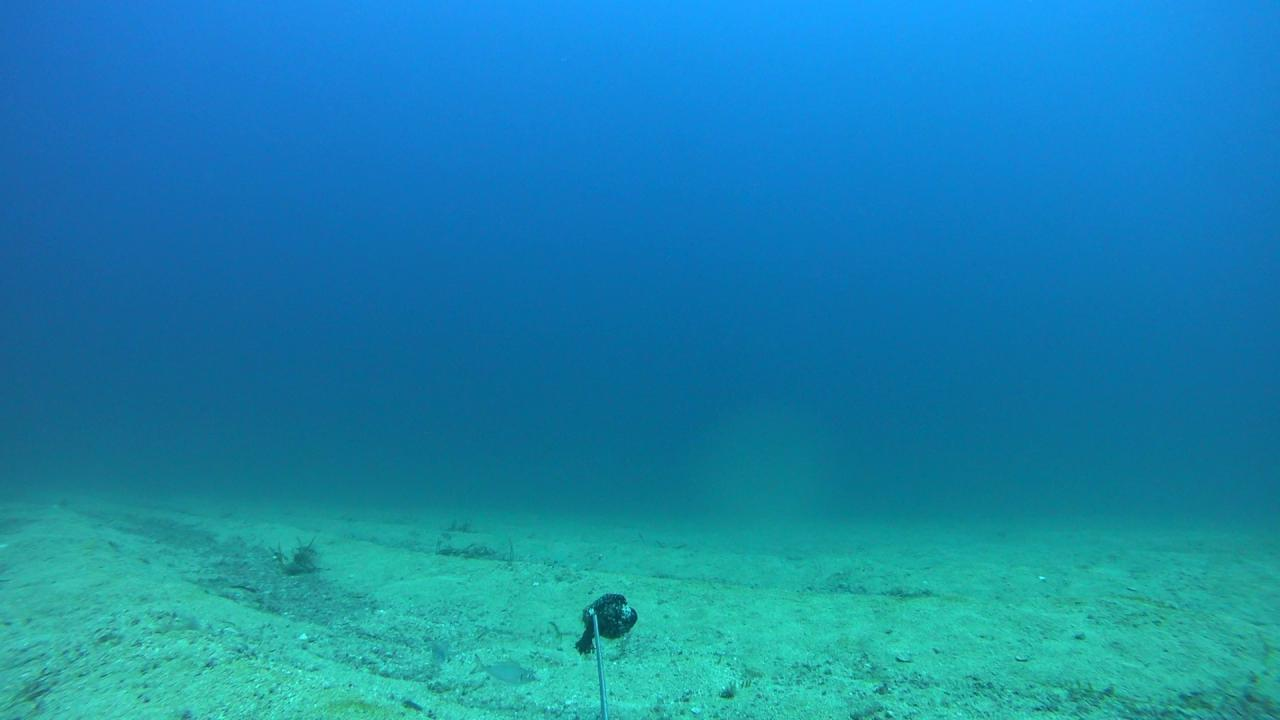pagellus: (468, 655, 535, 686)
